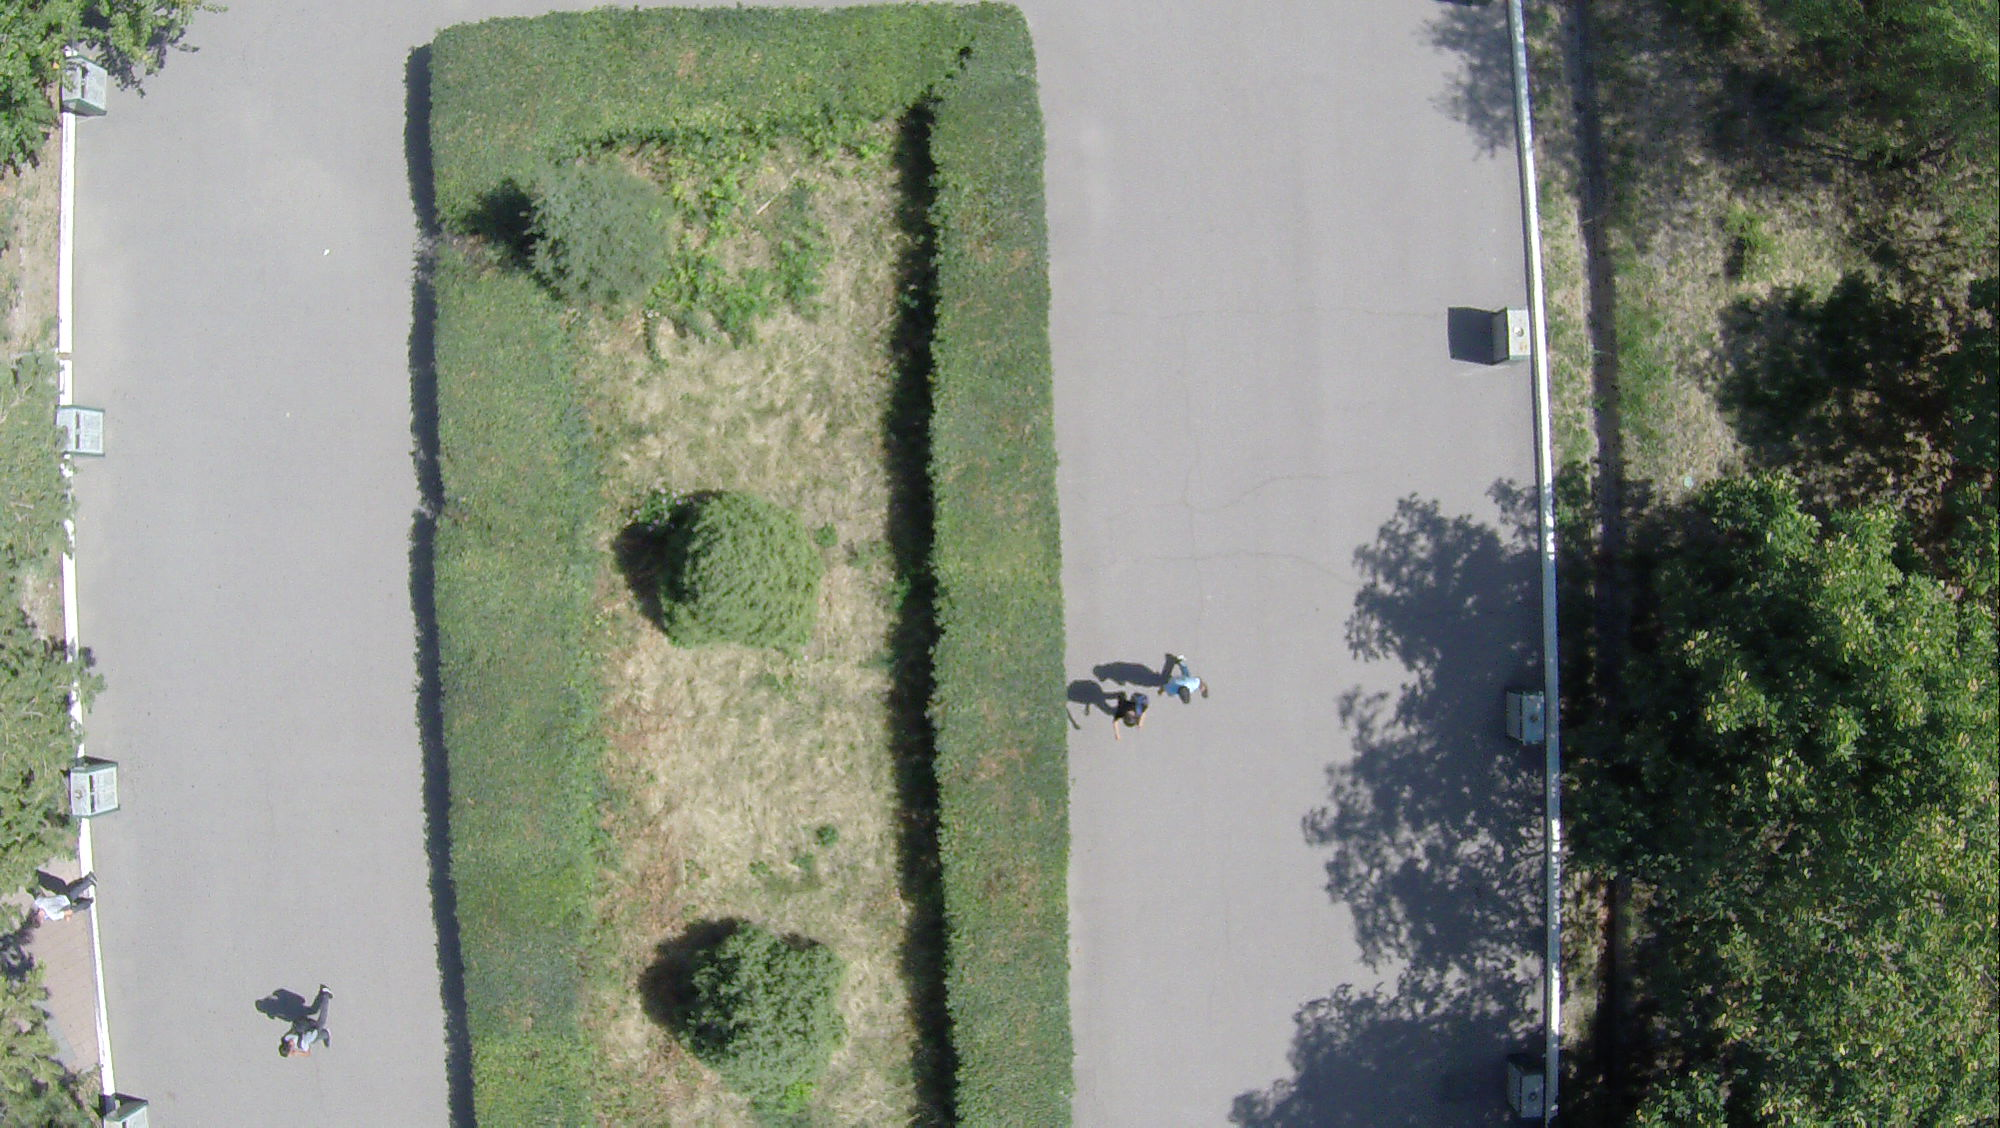person: (22, 865, 106, 934), (277, 988, 340, 1058), (1156, 654, 1210, 706), (1111, 692, 1147, 743)
